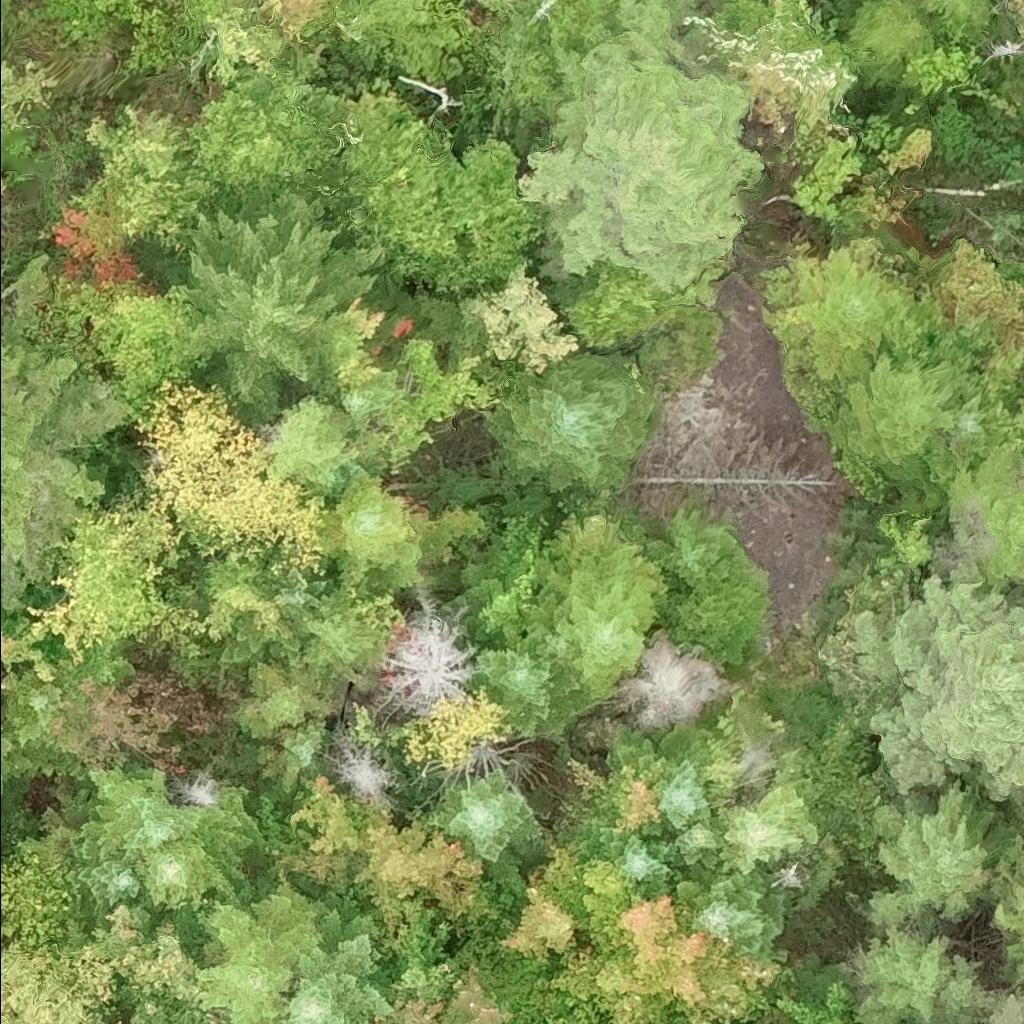crown: (514, 0, 765, 289), (155, 178, 389, 427), (0, 252, 141, 613), (848, 557, 1023, 809), (134, 376, 333, 577), (271, 802, 500, 941), (543, 892, 785, 1023), (328, 72, 467, 297), (21, 482, 189, 663), (488, 347, 665, 498), (826, 333, 964, 511), (68, 104, 229, 249), (552, 513, 670, 701), (194, 864, 325, 1023), (728, 0, 873, 142), (184, 70, 344, 193), (53, 668, 229, 777), (870, 779, 995, 931), (457, 0, 616, 117), (369, 338, 505, 469), (130, 783, 264, 914), (62, 760, 219, 868), (368, 585, 482, 730), (278, 884, 396, 1023), (441, 135, 547, 287), (790, 248, 908, 383), (317, 476, 453, 593), (601, 626, 741, 739), (467, 627, 598, 742), (418, 767, 544, 883), (543, 262, 701, 346), (854, 926, 986, 1023), (927, 236, 1023, 369), (672, 861, 796, 963), (530, 842, 638, 956), (89, 901, 200, 1010), (944, 438, 1023, 585), (642, 502, 766, 593), (0, 936, 126, 1023), (337, 0, 464, 85), (666, 569, 775, 666), (399, 683, 518, 771), (715, 776, 819, 876), (176, 0, 292, 89), (0, 665, 87, 778), (286, 586, 386, 684), (380, 891, 463, 1008), (566, 815, 687, 895), (581, 723, 666, 835), (267, 396, 365, 493), (227, 655, 335, 742), (373, 958, 517, 1023), (199, 555, 298, 646), (839, 0, 940, 88), (645, 723, 715, 838), (793, 132, 867, 229), (285, 770, 369, 854), (66, 833, 141, 926), (324, 722, 401, 811), (496, 881, 580, 962), (946, 370, 1013, 468), (984, 832, 1023, 984), (260, 716, 331, 798), (326, 297, 387, 391), (906, 22, 982, 96), (141, 575, 206, 660), (216, 613, 301, 669), (55, 0, 158, 46), (519, 577, 576, 658), (877, 510, 939, 579), (339, 367, 410, 423), (254, 0, 343, 44), (316, 455, 382, 509), (274, 565, 339, 618), (668, 815, 725, 871), (163, 761, 224, 809), (914, 0, 991, 38), (0, 725, 32, 797), (126, 996, 199, 1023), (992, 203, 1023, 264), (981, 989, 1023, 1023), (39, 0, 80, 19), (1008, 0, 1023, 39), (786, 0, 811, 22), (0, 172, 4, 193), (1020, 812, 1023, 833), (0, 679, 6, 689), (0, 720, 5, 731)
